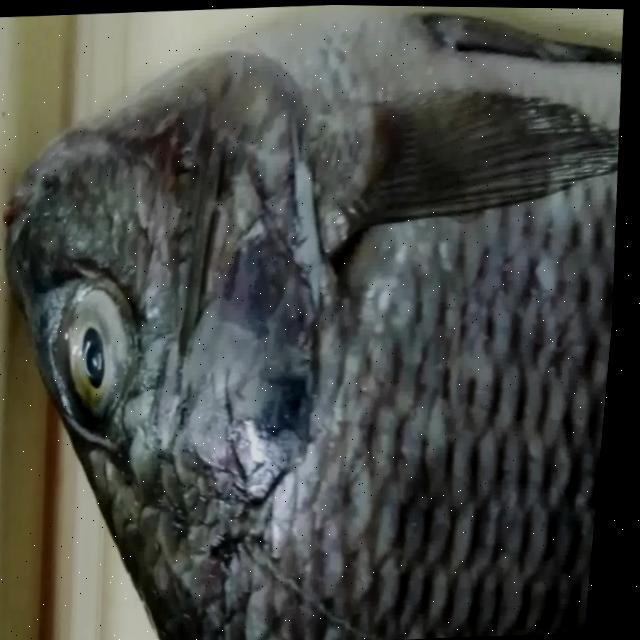Non-Fresh: (47, 278, 160, 445)
